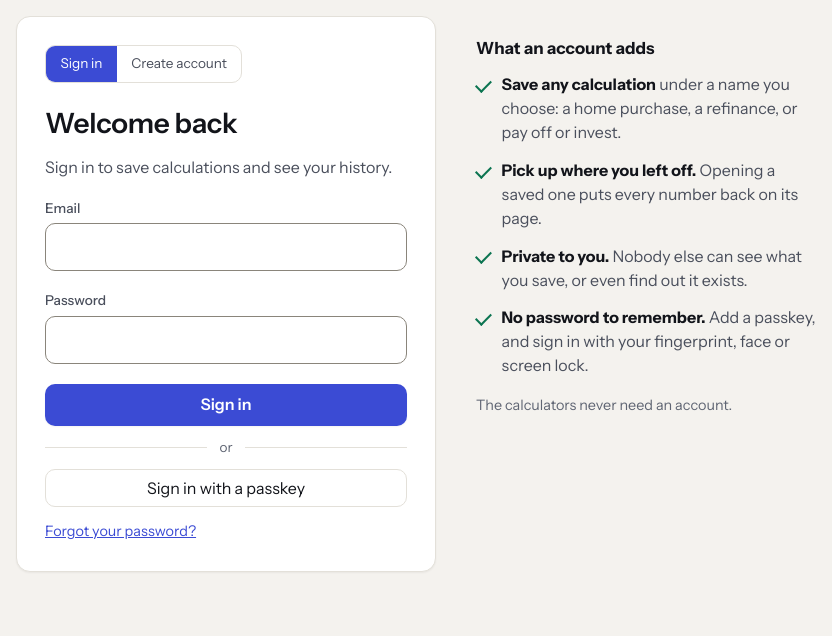
Scenario: SignInPageComponent › checks the email and password before sending anything
This screenshot has width=832, height=636.
Type "not-an-email" into the field labelled "Email". click: (226, 247)
box: left=45, top=223, right=407, bottom=271
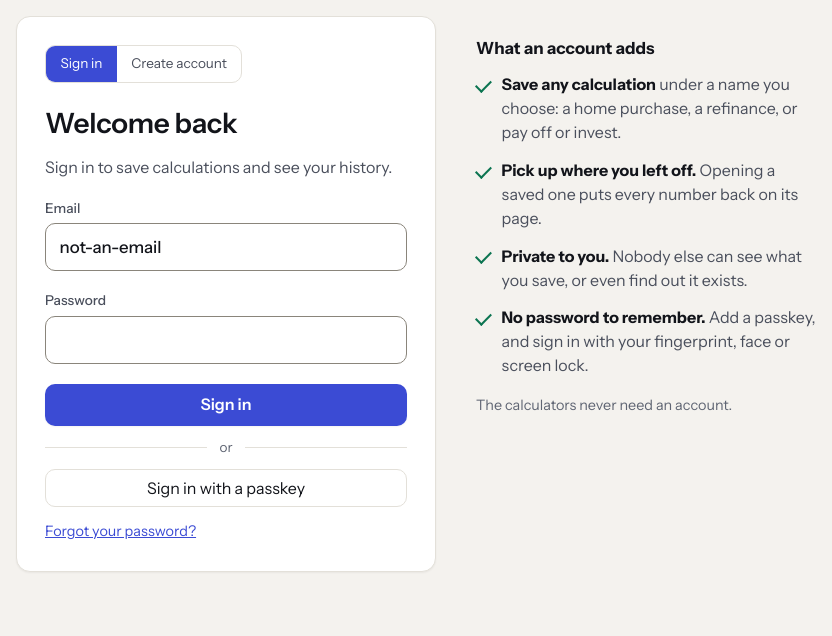
Type "short" into the password field labelled "Password". click: (226, 340)
box: left=45, top=316, right=407, bottom=364
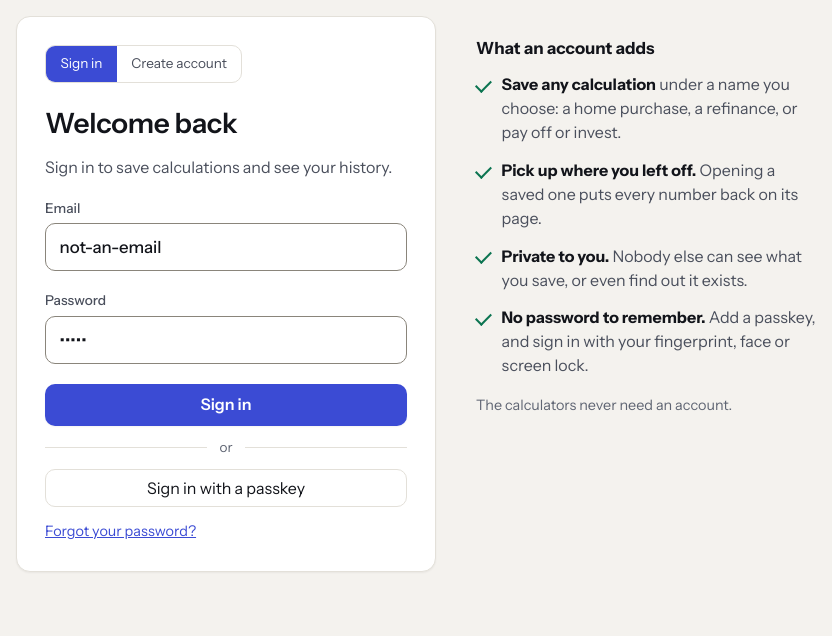
Submit the form, box left=45, top=199, right=407, bottom=426
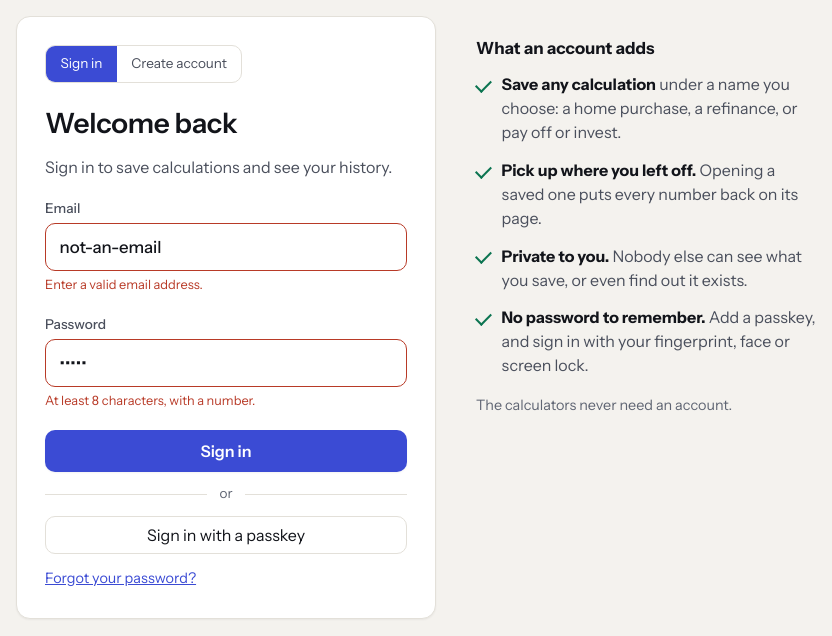
Expected: the text "Enter a valid email address." is shown, left=45, top=277, right=203, bottom=292
Expected: the text "At least 8 characters, with a number." is shown, left=45, top=393, right=255, bottom=408
